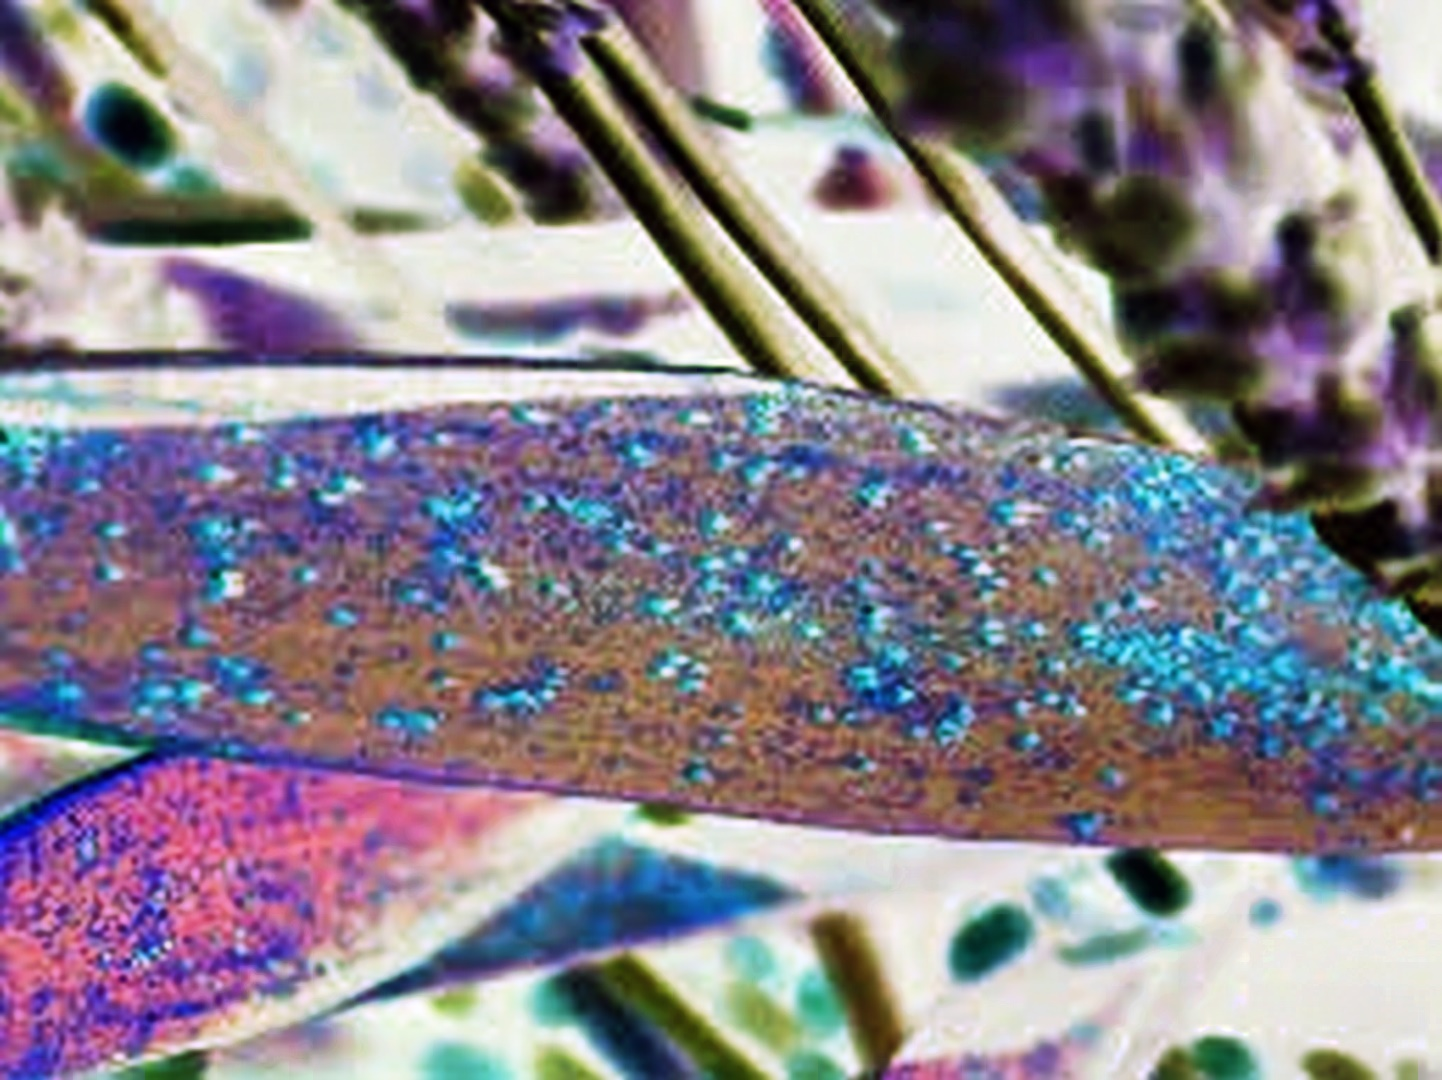Leaf Rust: (118, 347, 1420, 829)
